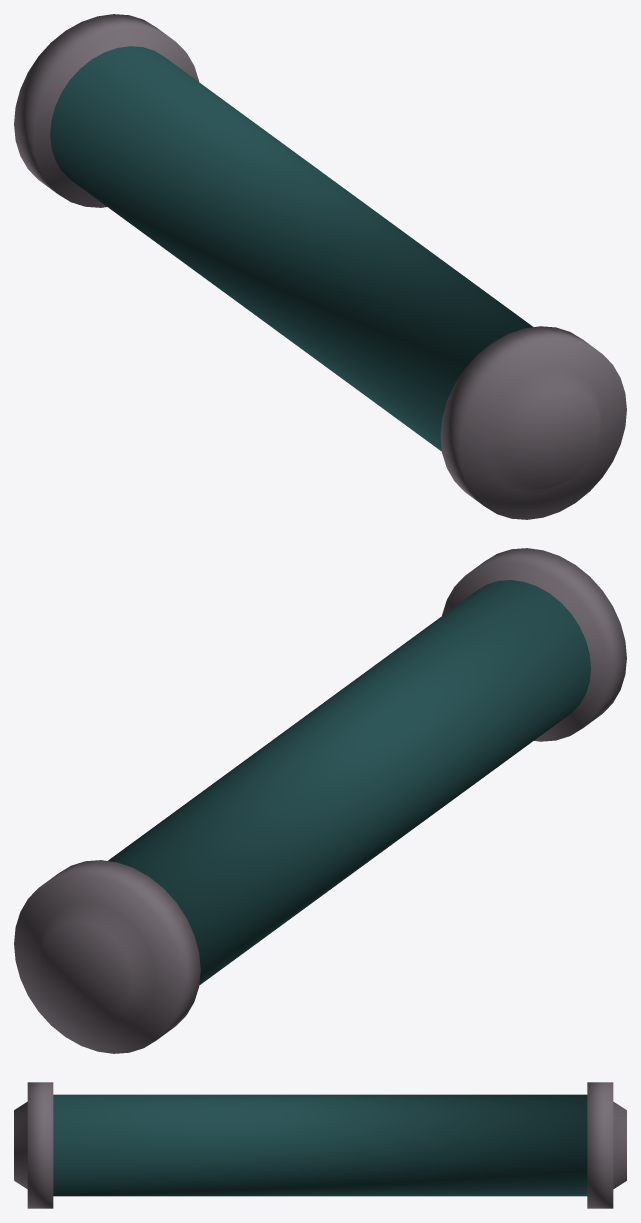
File: platform_pivot.fbx
3 renders of one model, top to bottom at view 1: azimuth 30°, elevation 25°; view 2: azimuth 150°, elevation 25°; view 3: azimuth 270°, elevation 25°, orthographic. The views are drawn at different scales.
Parts seen in each view (by area): view 1: Cube.000; view 2: Cube.000; view 3: Cube.000.
Part boxes in pixels (bbox=[...]): Cube.000: bbox=[14, 14, 626, 519]; Cube.000: bbox=[14, 548, 626, 1053]; Cube.000: bbox=[14, 1082, 626, 1208].
Bounding box in the file's own units: 48.17 × 48.17 × 233.
